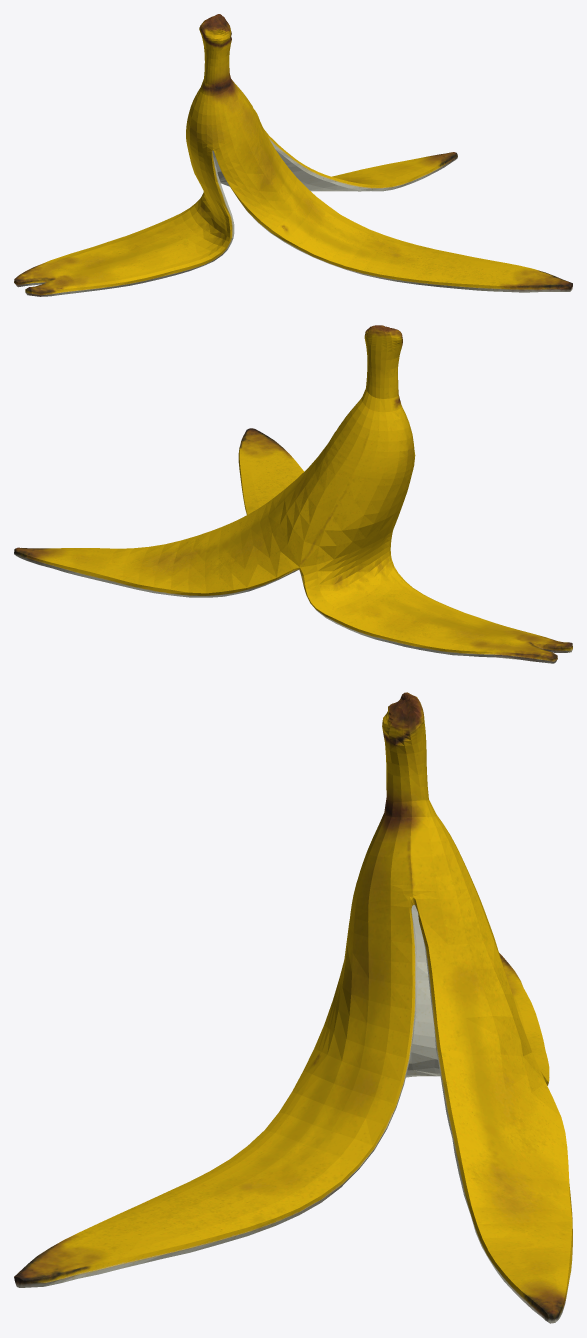
Rendered from banan.fbx.
The picture shows the model from 3 angles, top to bottom: view 1: azimuth 30°, elevation 25°; view 2: azimuth 150°, elevation 25°; view 3: azimuth 270°, elevation 25°; orthographic projection. The views are drawn at different scales.
Parts seen in each view (by area): view 1: banan; view 2: banan; view 3: banan.
Boxes of the visible parts, <box> form: banan: <box>14,14,572,296</box>; banan: <box>14,325,572,663</box>; banan: <box>14,692,572,1323</box>.
Bounding box in the file's own units: 51.2 × 26.08 × 32.58.
